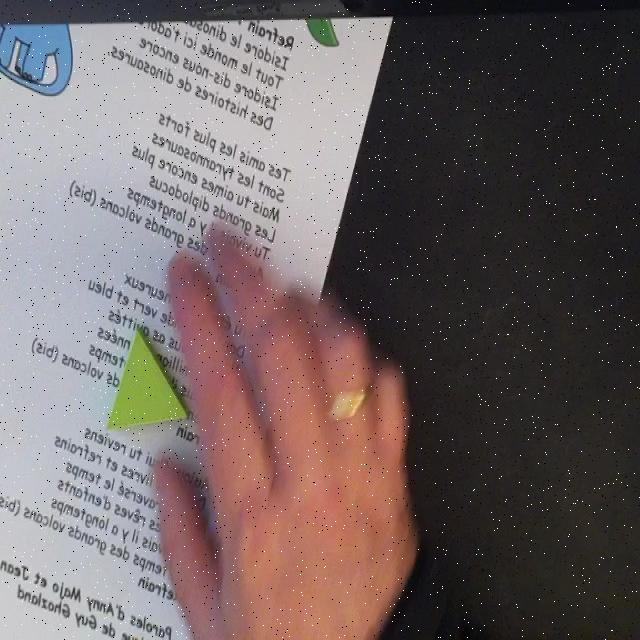triangle: (105, 327, 188, 434)
